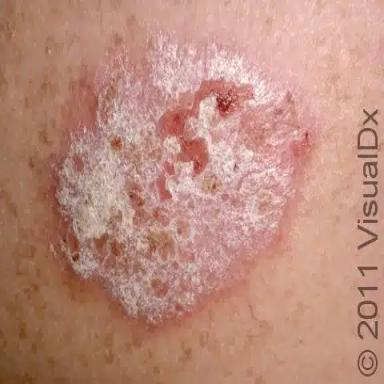Psoriasis: (43, 28, 320, 329)
